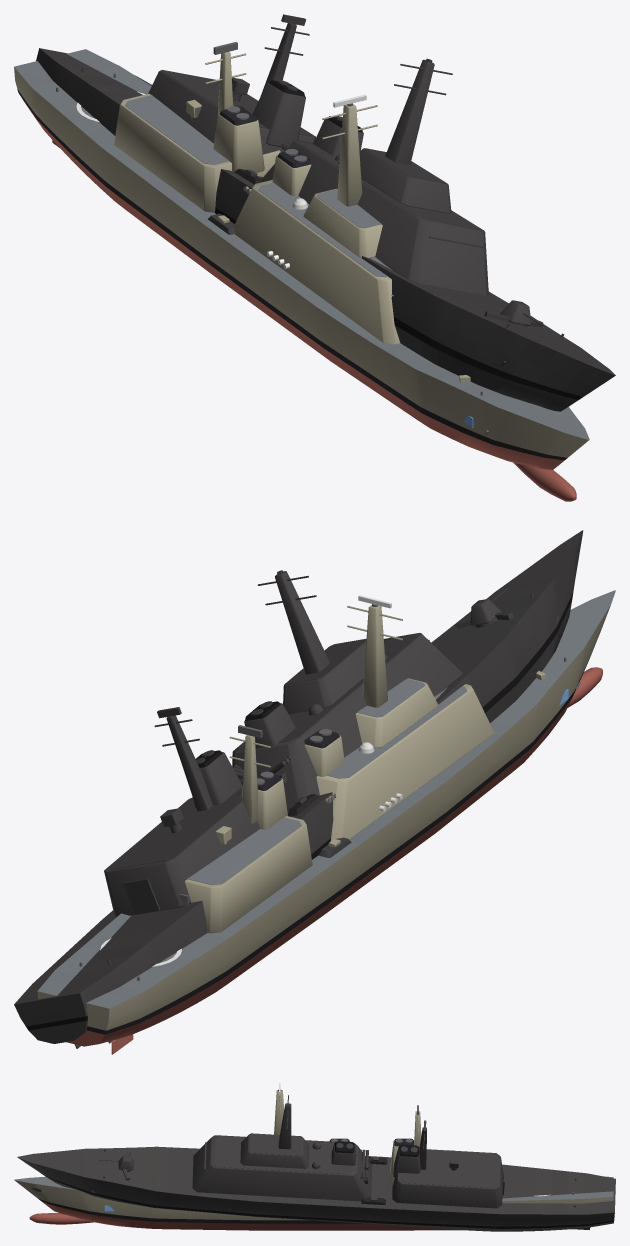
File: corvette__la_fayette_class.glb
3 views of the same model, one above another, from view 1: azimuth 30°, elevation 25°; view 2: azimuth 150°, elevation 25°; view 3: azimuth 270°, elevation 25° (orthographic). The views are drawn at different scales.
Visible parts, largest first — view 1: Hull_Mesh, Wreck; view 2: Hull_Mesh, Wreck; view 3: Wreck, Hull_Mesh.
Part boxes in pixels (<box>): Hull_Mesh: <box>14,42,589,501</box>; Wreck: <box>36,14,615,411</box>; Hull_Mesh: <box>37,590,615,1054</box>; Wreck: <box>14,530,583,1048</box>; Wreck: <box>17,1095,615,1231</box>; Hull_Mesh: <box>14,1090,613,1230</box>.
Size of what is drawn, in the model's own units: 22.97 by 35.01 by 131.
